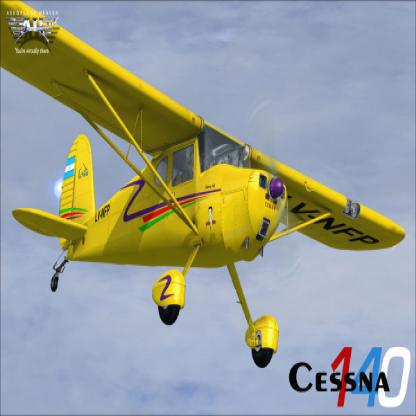CIV_Plane: (0, 0, 403, 374)
